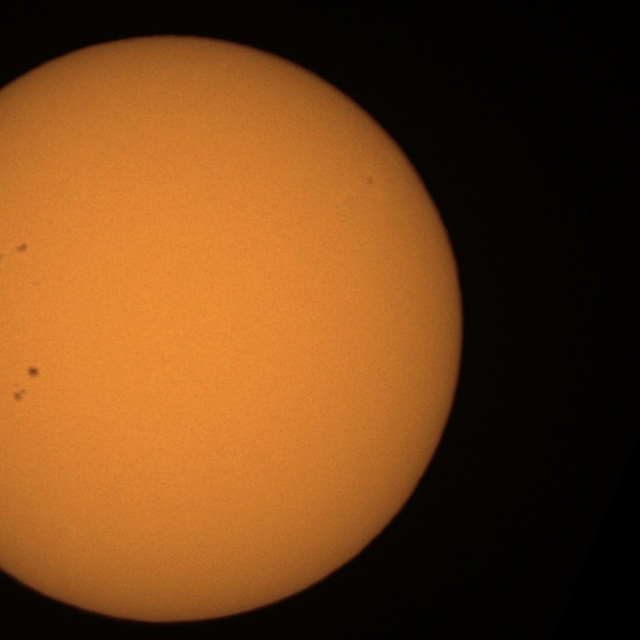sunspot: (12, 388, 28, 404), (26, 365, 40, 379), (16, 242, 29, 254)
